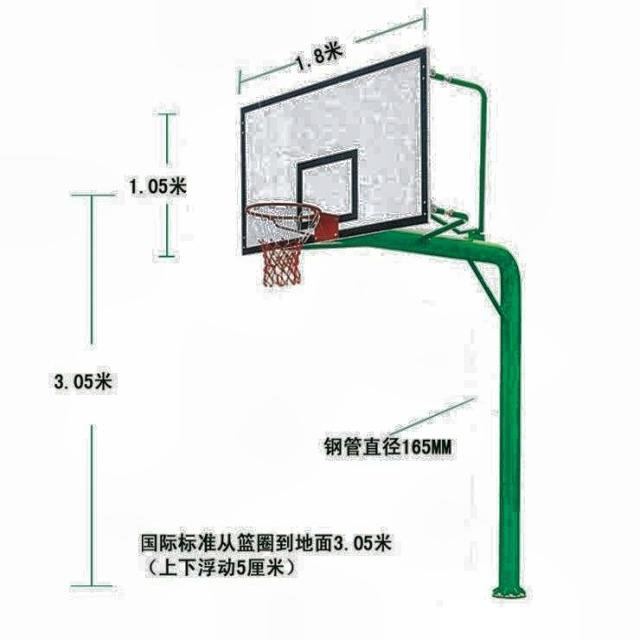rim: (244, 202, 322, 290)
